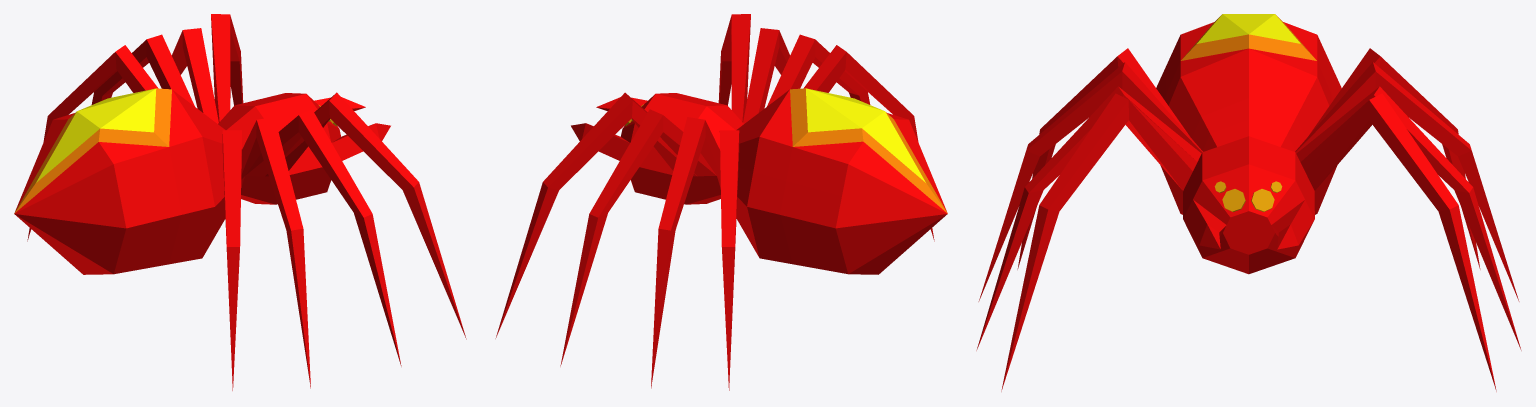
File: fire_spider.fbx
3 renders of one model, left to right at view 1: azimuth 30°, elevation 25°; view 2: azimuth 150°, elevation 25°; view 3: azimuth 270°, elevation 25°, orthographic. The views are drawn at different scales.
Parts seen in each view (by area): view 1: Plane.003; view 2: Plane.003; view 3: Plane.003, Circle.
Boxes of the visible parts, x1,y1,x2,y2 form: Plane.003: (14,14,466,390); Plane.003: (495,14,947,390); Plane.003: (976,14,1521,391); Circle: (1222,189,1274,211).
Size of the model in its own units: 490 by 291 by 564.
Materials: 3 (1 with a texture image).
